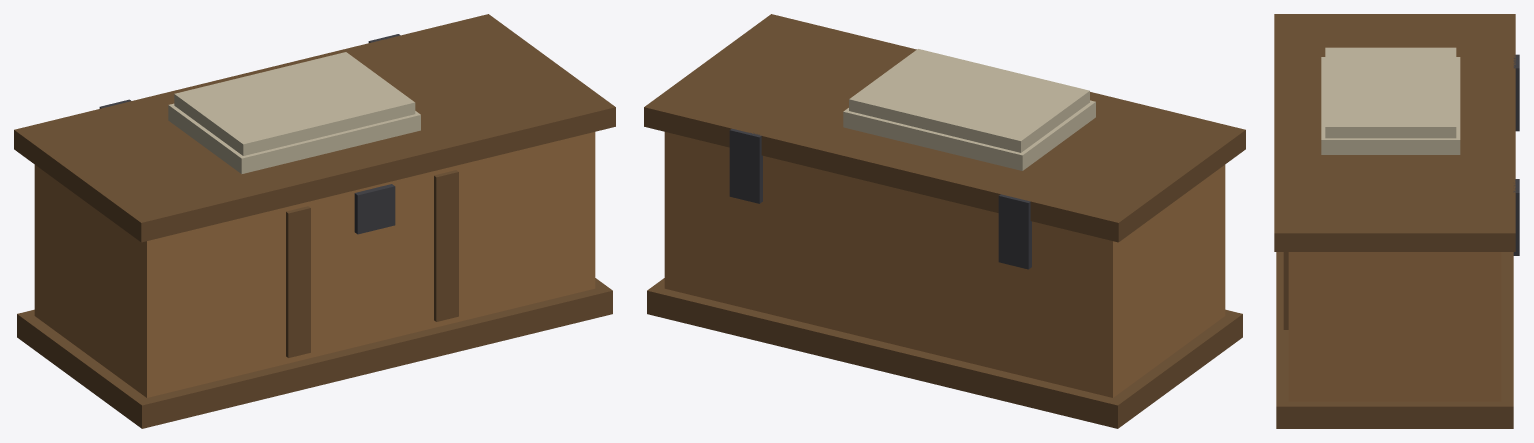
File: LinenChest.fbx
3 renders of one model, left to right at view 1: azimuth 30°, elevation 25°; view 2: azimuth 150°, elevation 25°; view 3: azimuth 270°, elevation 25°, orthographic. The views are drawn at different scales.
Visible parts, largest first — view 1: LinenChest; view 2: LinenChest; view 3: LinenChest.
Part boxes in pixels (x1,y1,x2,y2): LinenChest: (14, 14, 615, 428); LinenChest: (644, 14, 1245, 428); LinenChest: (1274, 14, 1519, 428).
Size of the model in its own units: 1.27 by 0.6 by 0.6.
